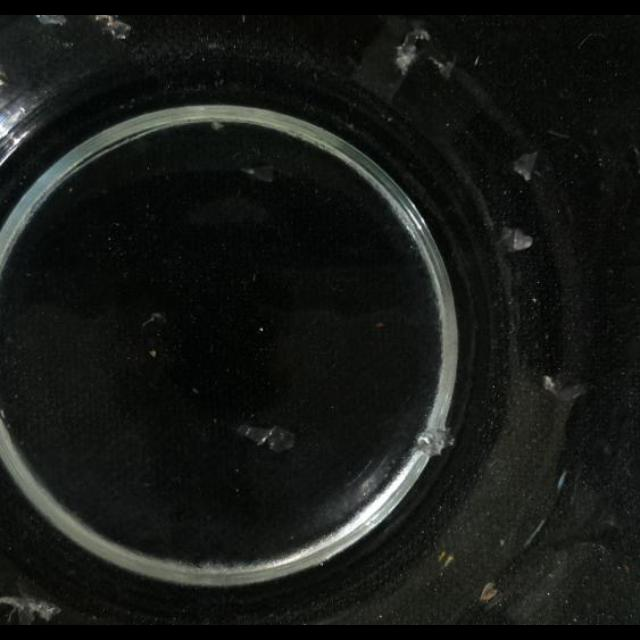Fibre: (393, 26, 432, 76), (235, 422, 295, 452), (1, 593, 61, 623), (413, 427, 455, 459), (544, 372, 588, 402), (95, 15, 134, 41), (498, 226, 532, 252), (512, 151, 538, 181), (238, 163, 276, 183), (427, 54, 455, 80), (141, 312, 167, 333), (478, 582, 499, 604), (35, 16, 67, 27), (210, 121, 226, 131), (1, 408, 9, 422)
microbeads: (474, 56, 480, 66)
